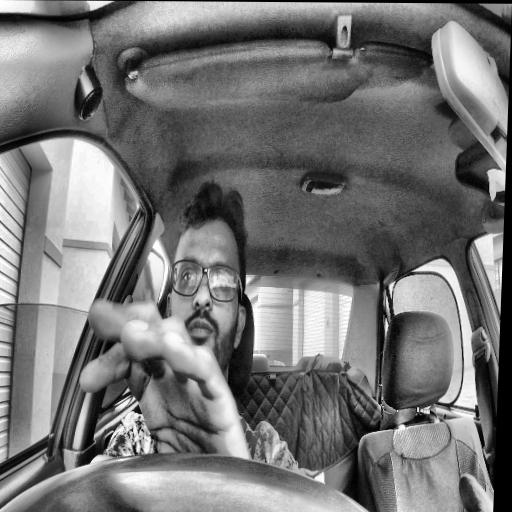awake: (163, 180, 251, 386)
